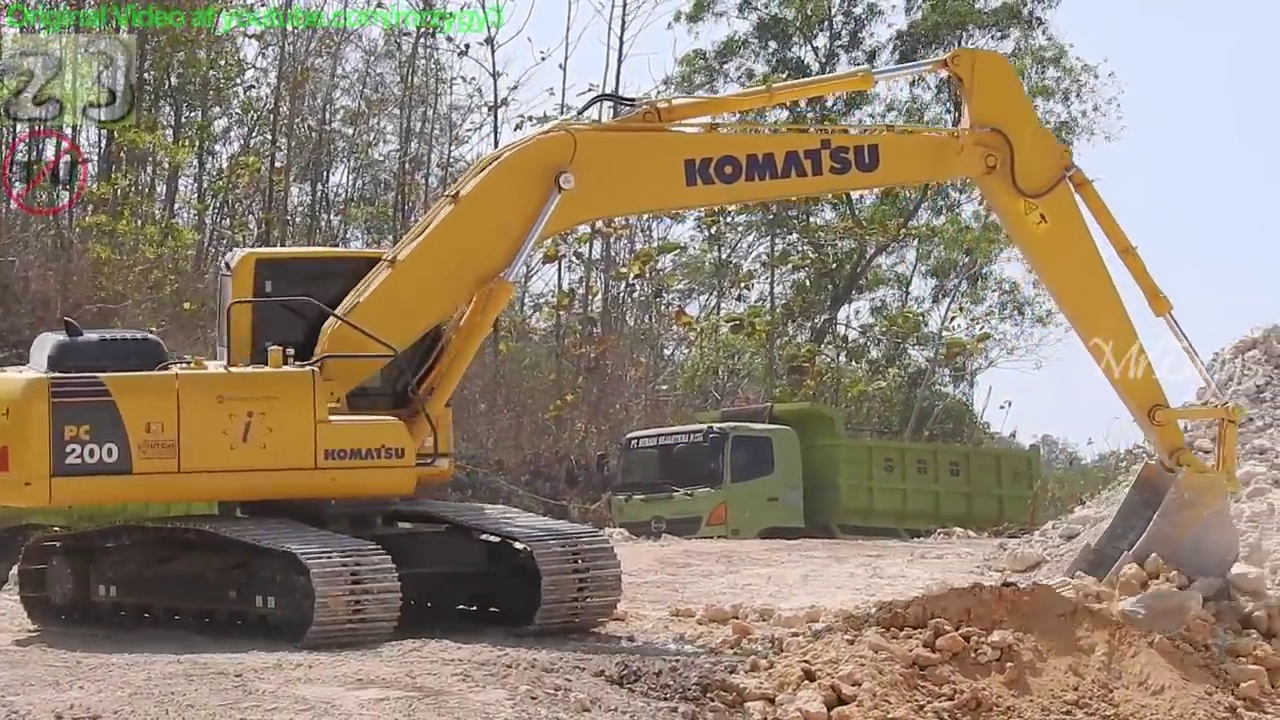excavator: (1, 37, 1248, 655)
truck: (593, 395, 1050, 581)
